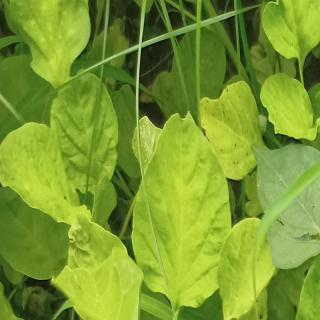kekurangan_mangan: (197, 75, 258, 182)
virus_keriting: (50, 68, 121, 193), (64, 209, 141, 320)
